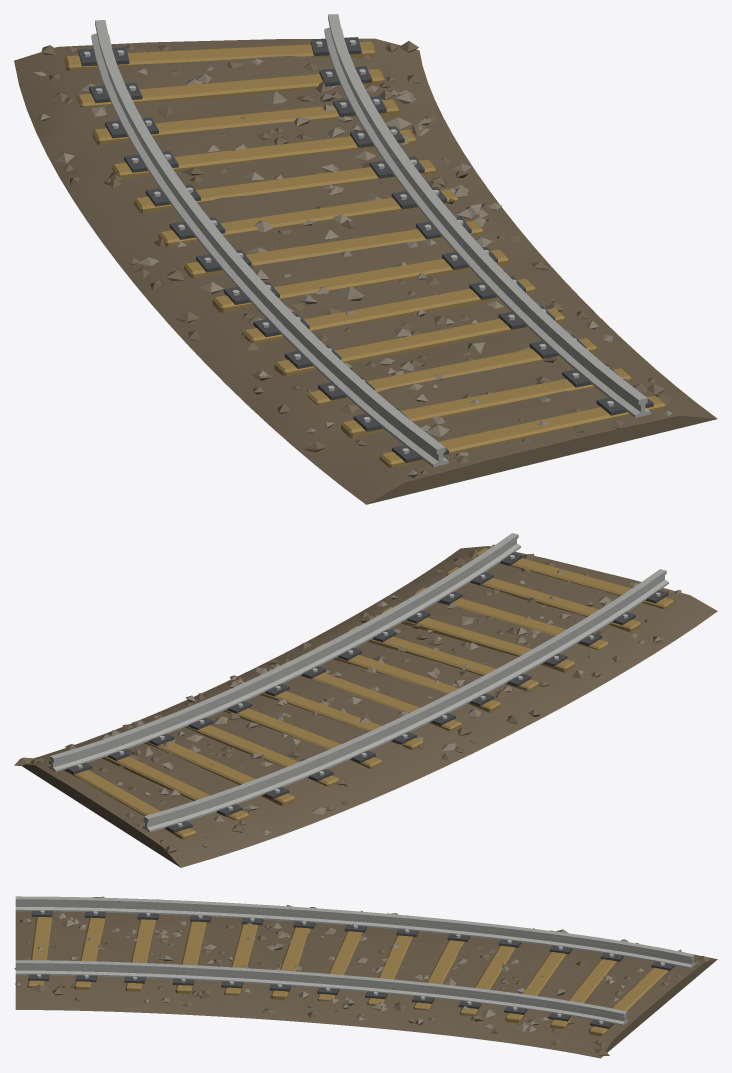
Rendered from curved-rail-a-ne.glb.
3 views of the same model, one above another, from view 1: azimuth 30°, elevation 25°; view 2: azimuth 150°, elevation 25°; view 3: azimuth 270°, elevation 25° (orthographic). The views are drawn at different scales.
Visible parts, largest first — view 1: body; view 2: body; view 3: body.
Boxes of the visible parts, <box> form: body: <box>14,14,717,504</box>; body: <box>14,533,717,867</box>; body: <box>14,896,717,1058</box>.
Bounding box in the file's own units: 2.93 × 0.2221 × 5.47.
